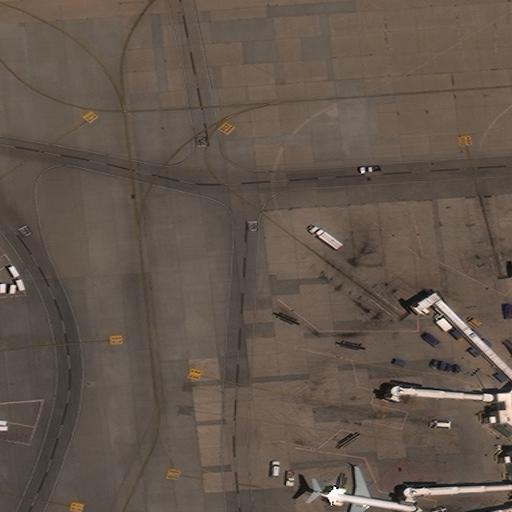Medium Civil Transport: (310, 466, 423, 511)
